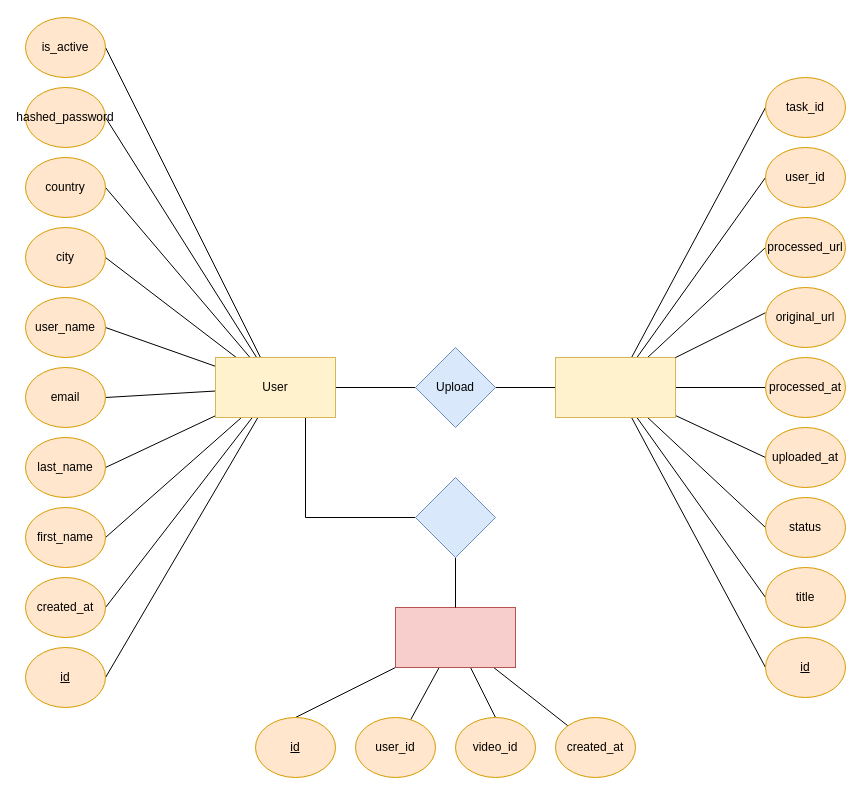
The diagram is 863 pixels wide and 795 high, and some of its shapes have lost their labels. Here are the shapes that lost their labels. From the top down, the box of each, then its label:
(554, 356, 676, 418): Video
(414, 476, 496, 558): Vote
(394, 606, 516, 668): VideoVote
